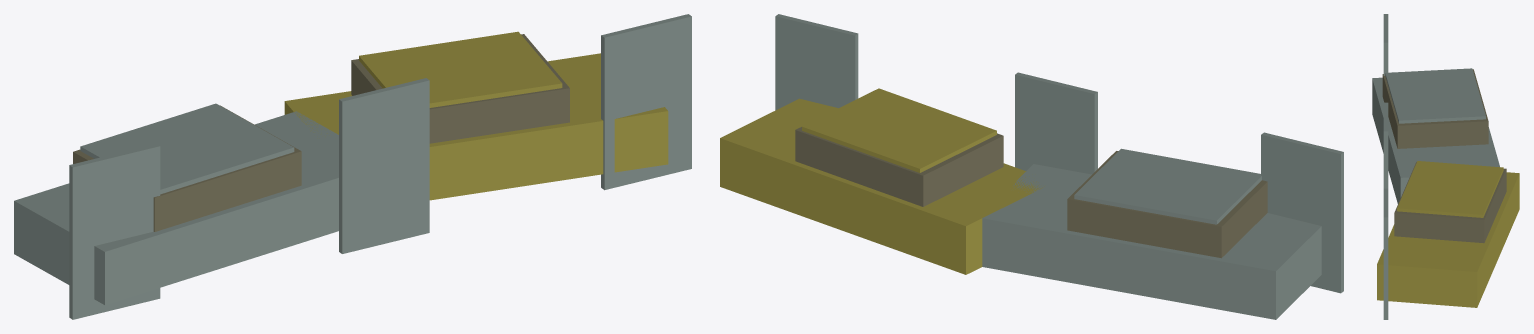
The model's file is SM_BarricadaCivil_v0_Coches_e0_Sano_LOD1.fbx.
The picture shows the model from 3 angles, left to right: view 1: azimuth 30°, elevation 25°; view 2: azimuth 150°, elevation 25°; view 3: azimuth 270°, elevation 25°; orthographic projection. The views are drawn at different scales.
Visible parts, largest first — view 1: SM_barricada_civil_v0_LOD1; view 2: SM_barricada_civil_v0_LOD1; view 3: SM_barricada_civil_v0_LOD1.
Boxes of the visible parts, box(x1,y1,x2,y2) form: SM_barricada_civil_v0_LOD1: box(14, 14, 691, 319); SM_barricada_civil_v0_LOD1: box(720, 14, 1343, 319); SM_barricada_civil_v0_LOD1: box(1372, 14, 1519, 319).
Size of the model in its own units: 8.5 by 2 by 2.61.
